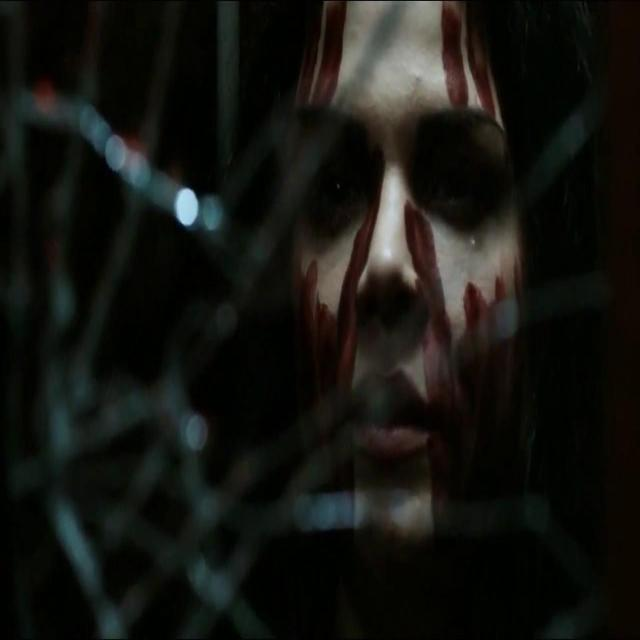flood: (283, 8, 538, 540)
